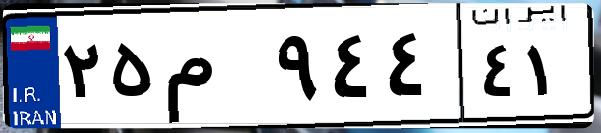1: (525, 38, 570, 115)
2: (57, 26, 110, 100)
4: (385, 28, 445, 110), (330, 28, 385, 110), (475, 38, 525, 113)
5: (110, 28, 158, 98)
9: (270, 28, 330, 110)
م: (158, 20, 270, 120)
